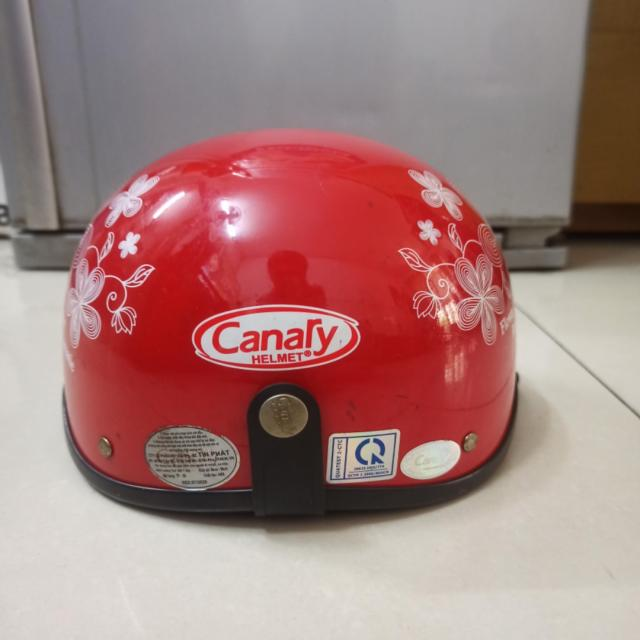Helmet: (58, 126, 524, 520)
